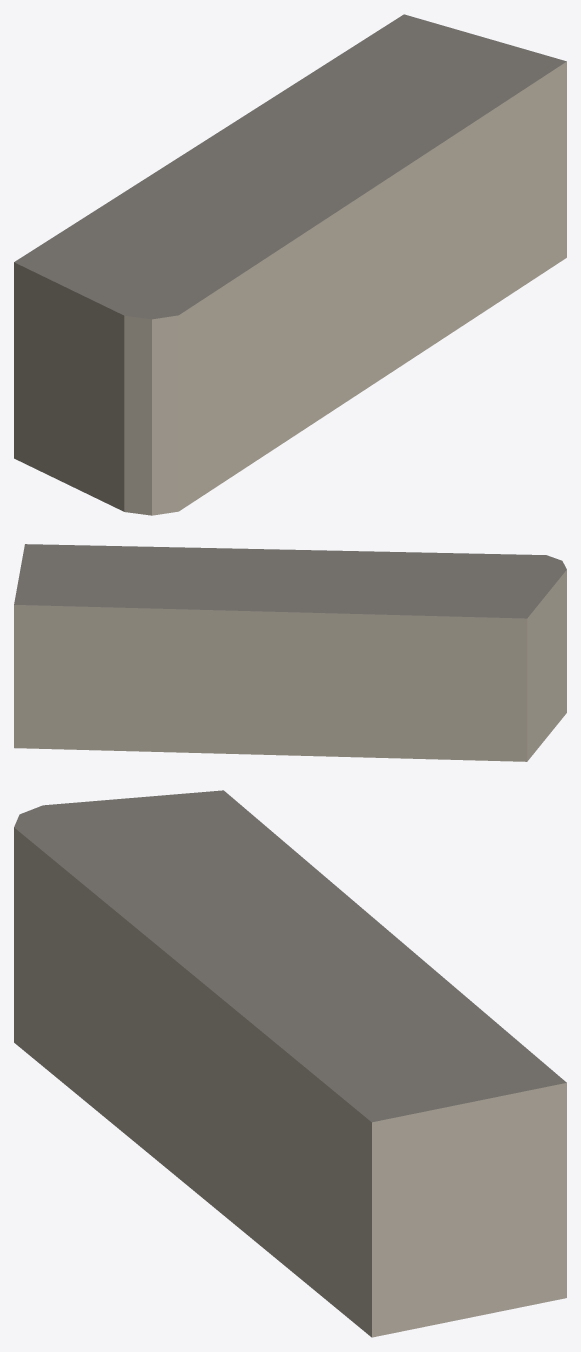
3 views of the same model, one above another, from view 1: azimuth 30°, elevation 25°; view 2: azimuth 150°, elevation 25°; view 3: azimuth 270°, elevation 25° (orthographic). The views are drawn at different scales.
Visible parts, largest first — view 1: HP-w378107214; view 2: HP-w378107214; view 3: HP-w378107214.
Part boxes in pixels (x1,y1,x2,y2): HP-w378107214: (14,14,566,515); HP-w378107214: (14,544,566,761); HP-w378107214: (14,790,566,1337).
Size of the model in its own units: 59.54 by 18 by 41.91.
